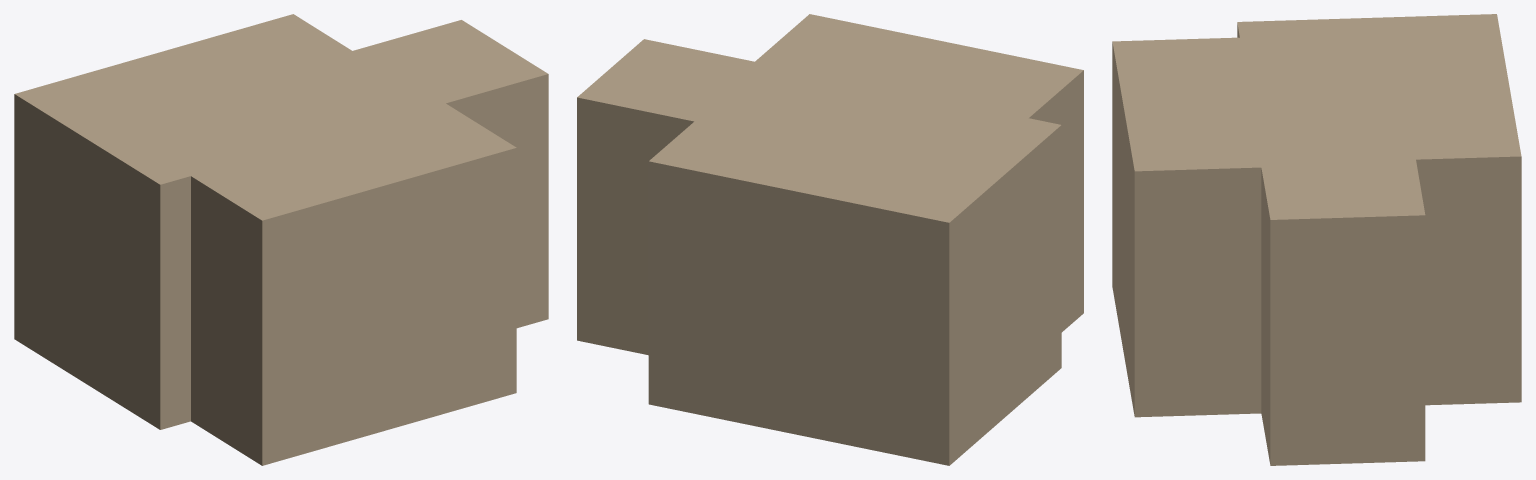
File: bld_158045229.dae
3 renders of one model, left to right at view 1: azimuth 30°, elevation 25°; view 2: azimuth 150°, elevation 25°; view 3: azimuth 270°, elevation 25°, orthographic.
Parts seen in each view (by area): view 1: bld_158045229; view 2: bld_158045229; view 3: bld_158045229.
Boxes of the visible parts, x1=… form: bld_158045229: x1=14, y1=14, x2=548, y2=465; bld_158045229: x1=577, y1=14, x2=1083, y2=465; bld_158045229: x1=1112, y1=14, x2=1521, y2=465.
Size of the model in its own units: 14.37 by 12.06 by 8.
